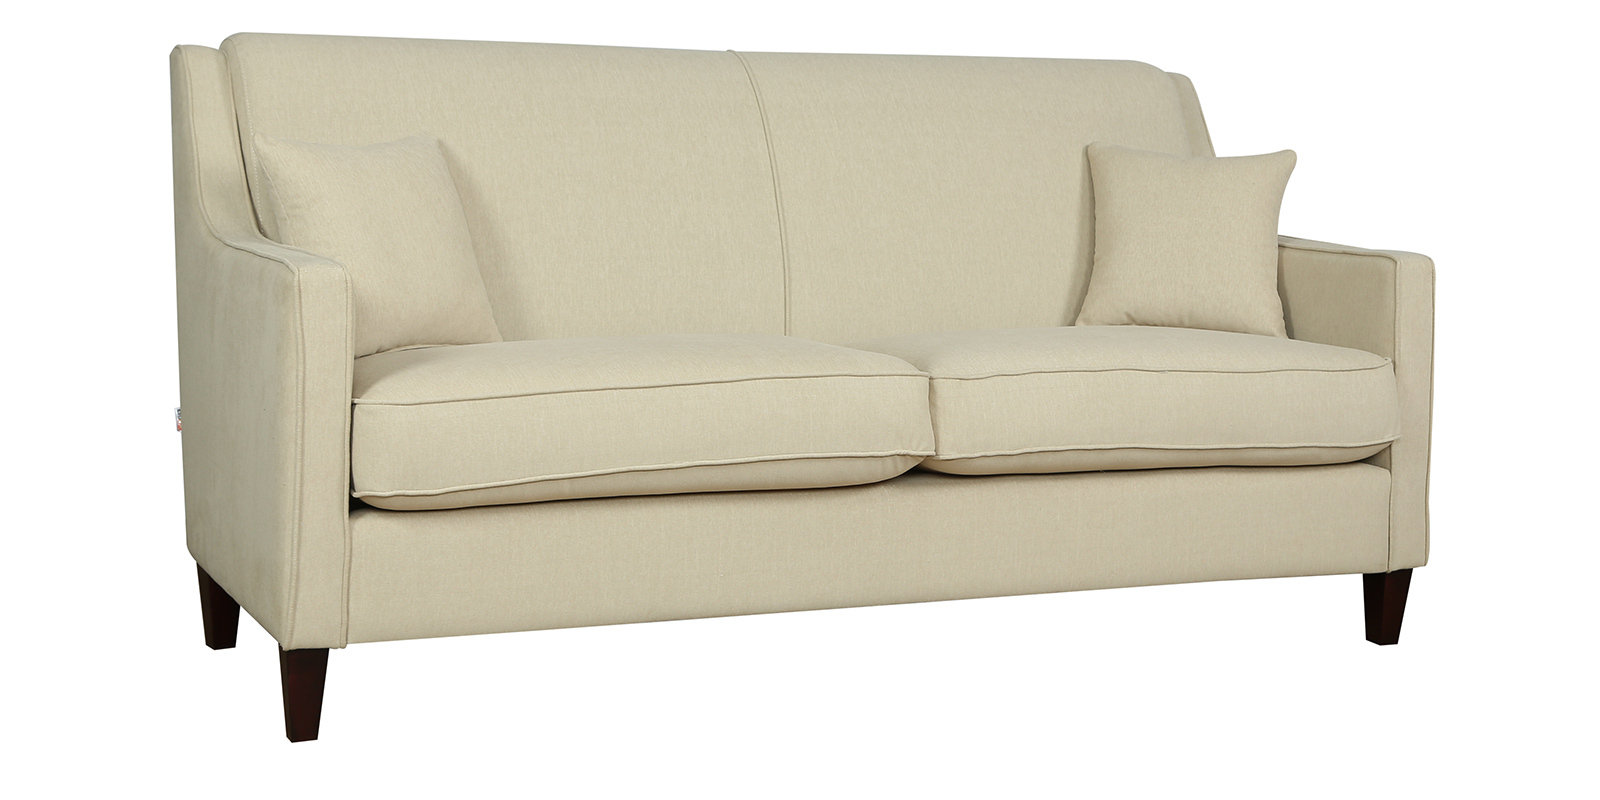Oscar Three Seater Sofa in Beige Colour by CasaCraft: (170, 32, 1434, 741)
